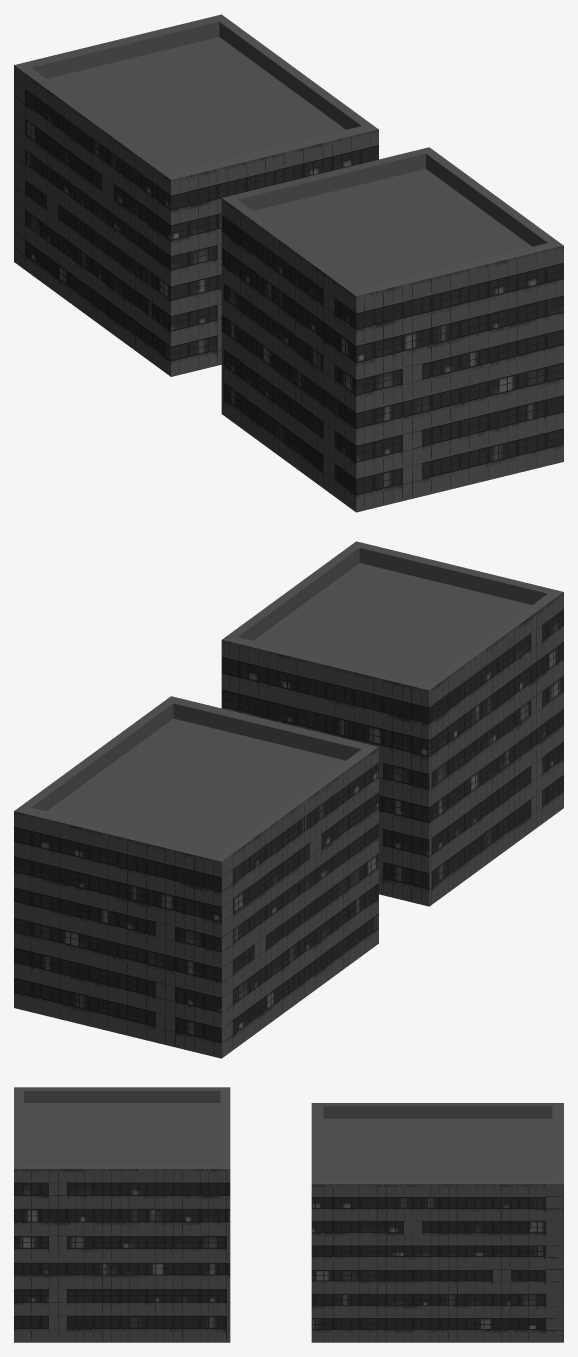
File: Mesh_Residential-Twins.fbx
The picture shows the model from 3 angles, top to bottom: view 1: azimuth 30°, elevation 25°; view 2: azimuth 150°, elevation 25°; view 3: azimuth 270°, elevation 25°; orthographic projection. The views are drawn at different scales.
Visible parts, largest first — view 1: Mesh_Residential-Twins; view 2: Mesh_Residential-Twins; view 3: Mesh_Residential-Twins.
Part boxes in pixels (box(x1,y1,x2,y2)): Mesh_Residential-Twins: box(14, 14, 563, 512); Mesh_Residential-Twins: box(14, 541, 563, 1058); Mesh_Residential-Twins: box(14, 1087, 563, 1342).
Bounding box in the file's own units: 15.26 × 15.21 × 43.57.
